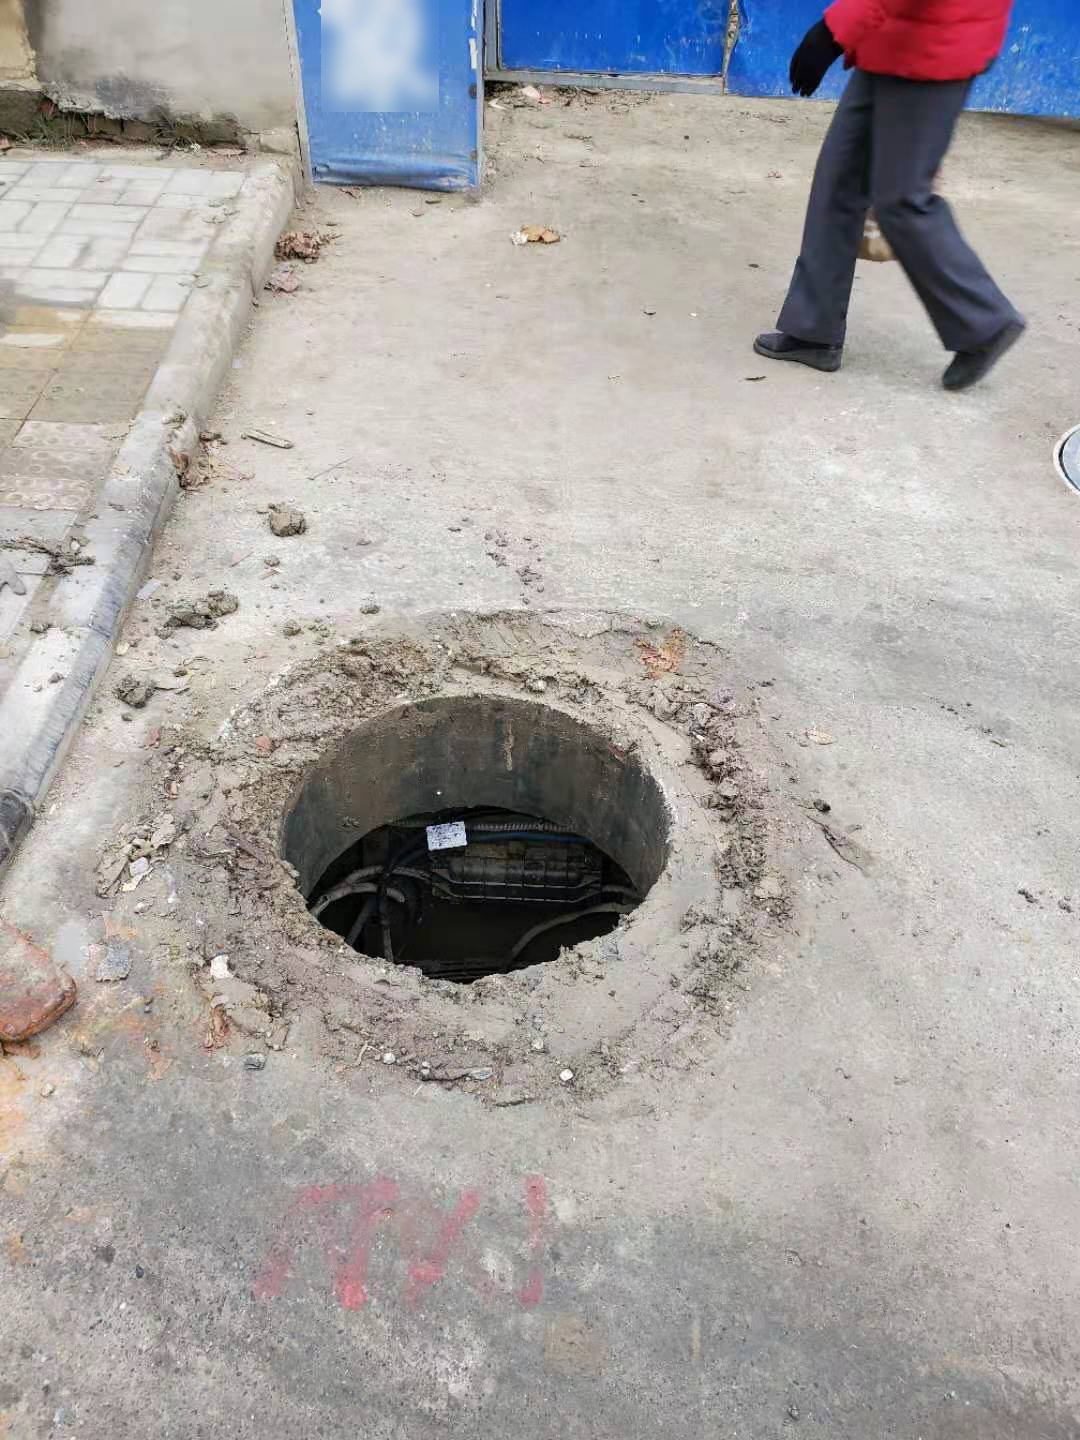lose: (282, 686, 680, 983)
